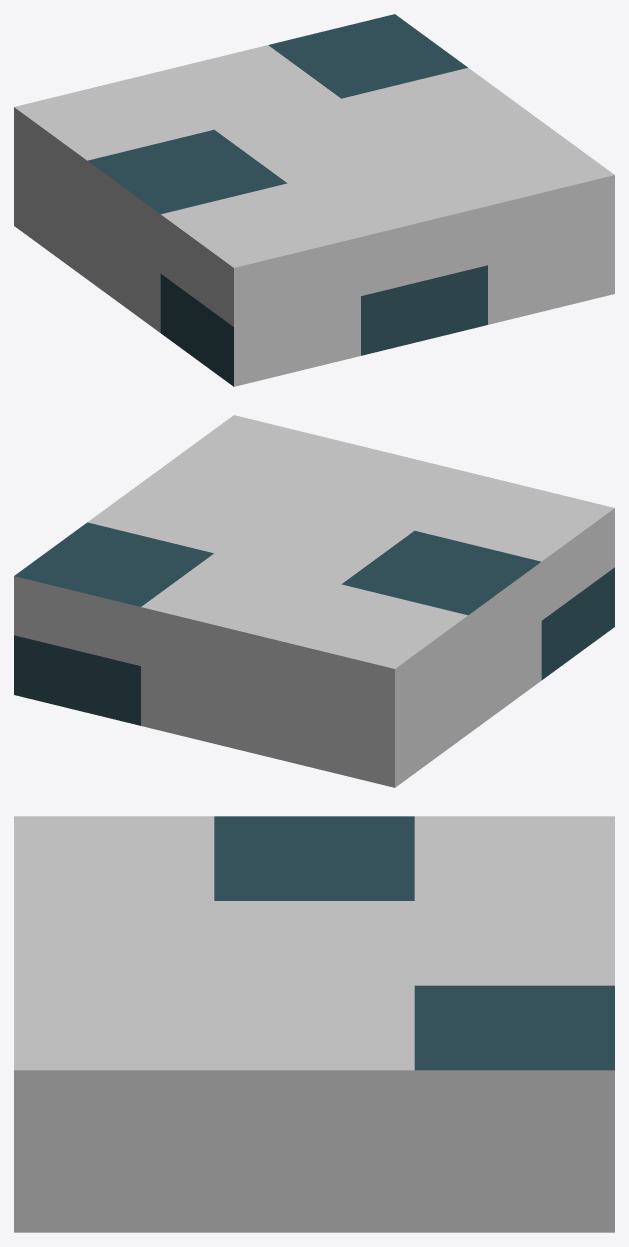
Rendered from AzulejoPequeno.fbx.
3 renders of one model, top to bottom at view 1: azimuth 30°, elevation 25°; view 2: azimuth 150°, elevation 25°; view 3: azimuth 270°, elevation 25°, orthographic. The views are drawn at different scales.
Visible parts, largest first — view 1: AzulejoPequeno; view 2: AzulejoPequeno; view 3: AzulejoPequeno.
Part boxes in pixels (x1,y1,x2,y2): AzulejoPequeno: [14, 14, 614, 386]; AzulejoPequeno: [14, 415, 614, 787]; AzulejoPequeno: [14, 816, 614, 1232].
Size of the model in its own units: 150 by 44.59 by 150.
